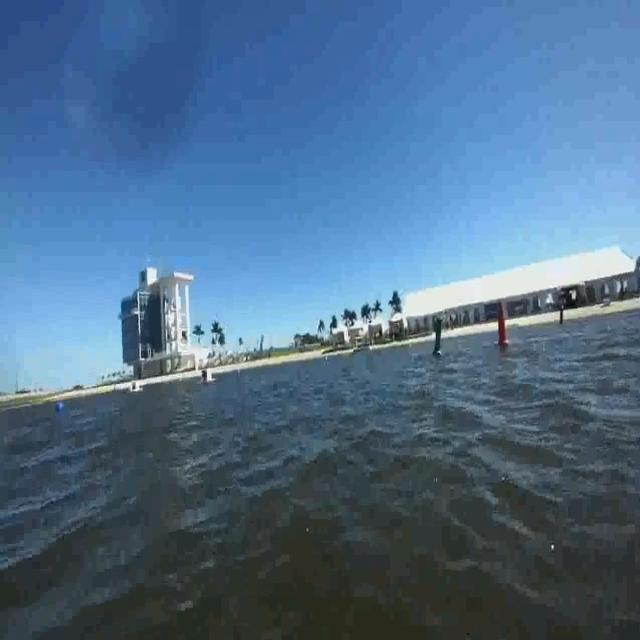blue-buoy: (56, 398, 65, 410)
green-column-buoy: (432, 316, 452, 365)
red-column-buoy: (495, 291, 512, 354)
